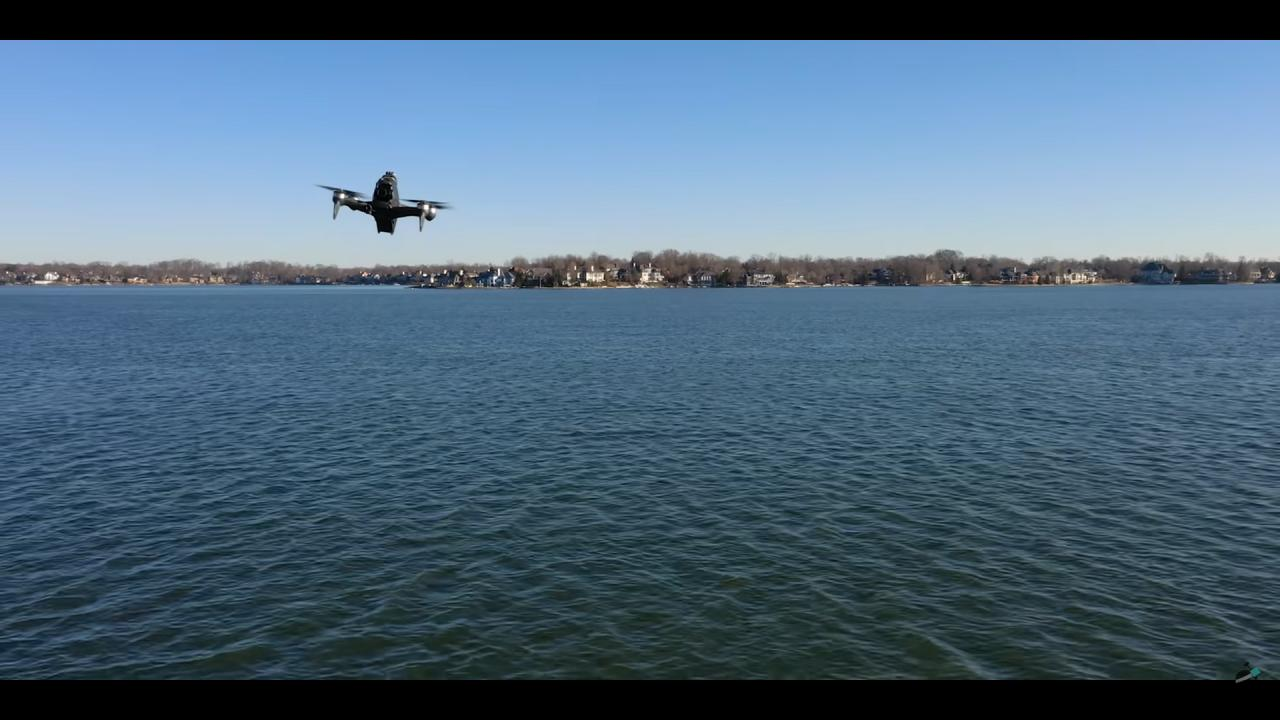Drone: (311, 164, 464, 240)
